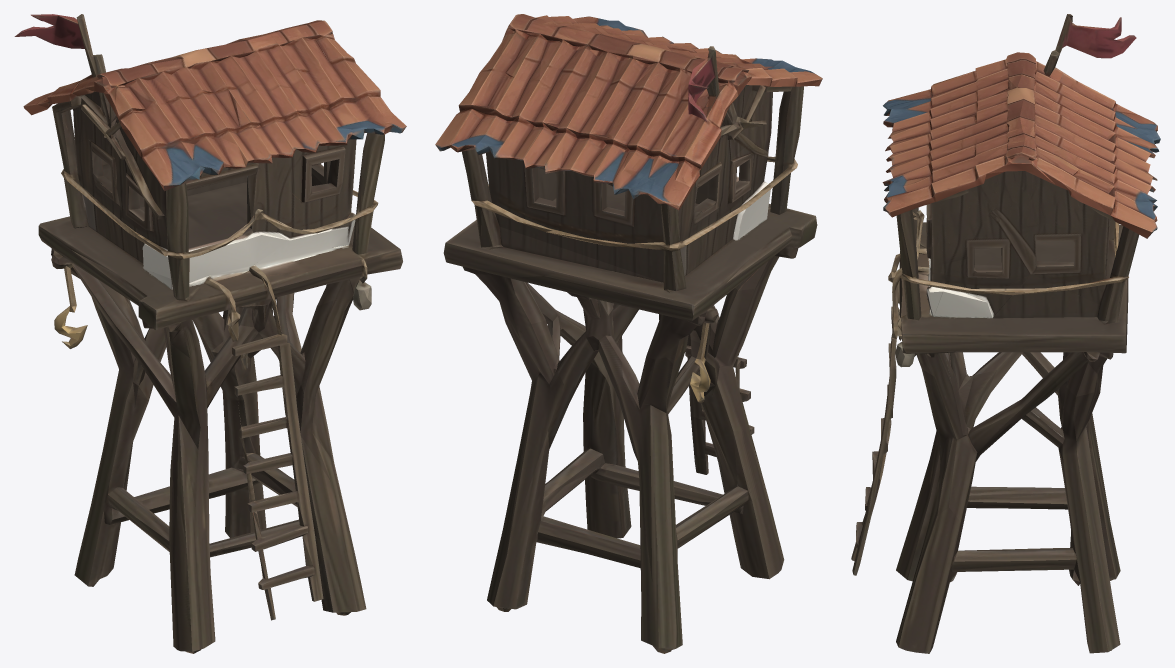
Rendered from lookout.glb.
3 views of the same model, side by side, from view 1: azimuth 30°, elevation 25°; view 2: azimuth 150°, elevation 25°; view 3: azimuth 270°, elevation 25° (orthographic). The views are drawn at different scales.
Parts seen in each view (by area): view 1: lookout; view 2: lookout; view 3: lookout.
Part boxes in pixels (left/top/right/bottom): lookout: left=14, top=14, right=406, bottom=653; lookout: left=435, top=14, right=822, bottom=653; lookout: left=851, top=14, right=1160, bottom=653.
Bounding box in the file's own units: 5.25 × 11 × 5.55.
Materials: 1 (1 with a texture image).
